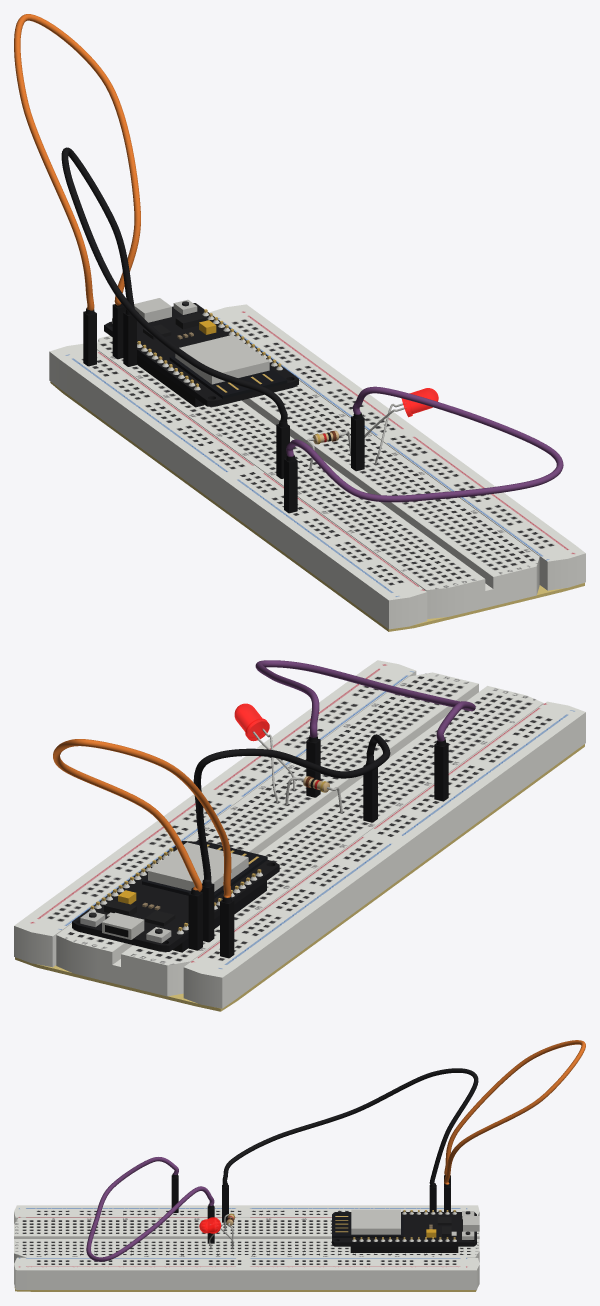
File: circuito-esp32-led.glb
3 renders of one model, top to bottom at view 1: azimuth 30°, elevation 25°; view 2: azimuth 150°, elevation 25°; view 3: azimuth 270°, elevation 25°, orthographic. The views are drawn at different scales.
Visible parts, largest first — view 1: Protoboard, Jumper_Laranja_GND, Jumper_Roxo_GND, Jumper_Preto_D2, ESP32_Componentes, ESP32_Placa, ESP32_Modulo_WROOM32, LED_Vermelho; view 2: Protoboard, Jumper_Laranja_GND, ESP32_Componentes, Jumper_Roxo_GND, Jumper_Preto_D2, ESP32_Placa, ESP32_Modulo_WROOM32, LED_Vermelho, Resistor_1k; view 3: Protoboard, ESP32_Componentes, Jumper_Preto_D2, ESP32_Placa, Jumper_Laranja_GND, Jumper_Roxo_GND, ESP32_Modulo_WROOM32, LED_Vermelho.
Part boxes in pixels (x1,y1,x2,y2): Protoboard: (49,304,585,631); Jumper_Laranja_GND: (14,14,140,366); Jumper_Roxo_GND: (284,386,563,513); Jumper_Preto_D2: (61,147,289,478); ESP32_Componentes: (112,298,287,407); ESP32_Placa: (104,303,298,406); ESP32_Modulo_WROOM32: (175,334,269,384); LED_Vermelho: (364,388,438,464); Protoboard: (14,660,585,1011); Jumper_Laranja_GND: (53,739,234,958); ESP32_Componentes: (80,840,267,952); Jumper_Roxo_GND: (255,660,475,801); Jumper_Preto_D2: (193,734,390,942); ESP32_Placa: (72,841,279,951); ESP32_Modulo_WROOM32: (148,842,248,891); LED_Vermelho: (234,703,295,802); Resistor_1k: (285,776,342,812); Protoboard: (14,1205,479,1291); ESP32_Componentes: (332,1210,479,1252); Jumper_Preto_D2: (222,1068,478,1222); ESP32_Placa: (332,1212,476,1246); Jumper_Laranja_GND: (444,1040,585,1211); Jumper_Roxo_GND: (86,1157,214,1261); ESP32_Modulo_WROOM32: (351,1209,400,1234); LED_Vermelho: (199,1217,233,1248).
Size of the model in its own units: 0.0728 by 0.0793 by 0.2028.
24 materials, 1 textured.
